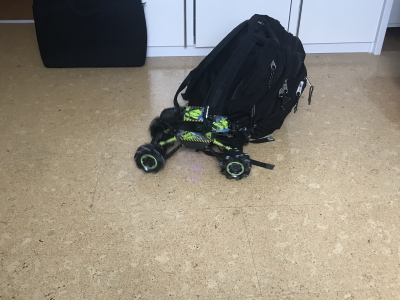remote control car: (133, 101, 254, 182)
